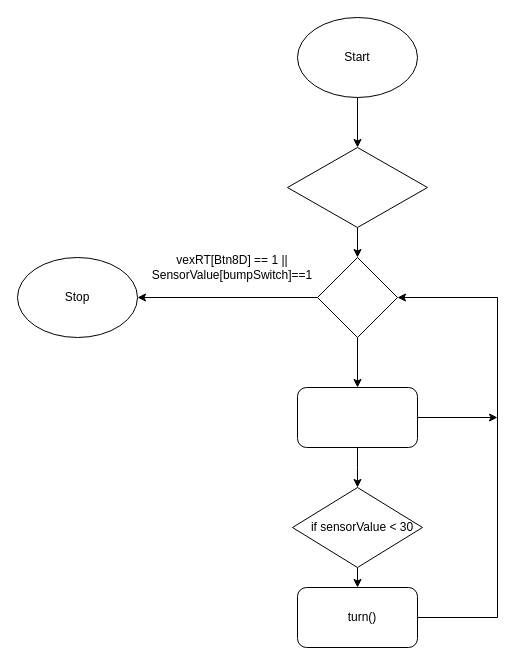
Some shapes in this 523 by 665 pixel diagram are drawn without their labels. Each missing label, with the centre of its shape:
drive(): (357,417)
if lightSensor > 200: (357,187)
